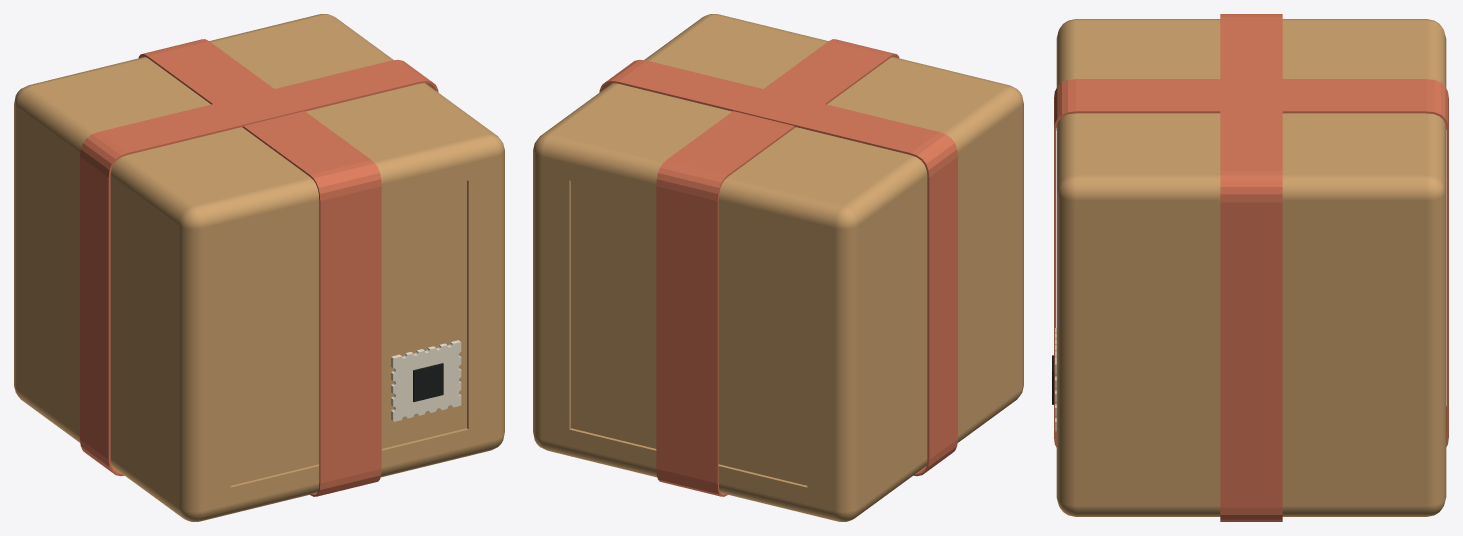
Rendered from play-parcel-small-coral.glb.
The picture shows the model from 3 angles, left to right: view 1: azimuth 30°, elevation 25°; view 2: azimuth 150°, elevation 25°; view 3: azimuth 270°, elevation 25°; orthographic projection. The views are drawn at different scales.
Parts seen in each view (by area): view 1: Parcel_Carton, Parcel_Tape_Continuous_Front_Back, Parcel_Tape_Continuous_Left_Right, Parcel_Paper_Label, Parcel_Label_Square; view 2: Parcel_Carton, Parcel_Tape_Continuous_Front_Back, Parcel_Tape_Continuous_Left_Right; view 3: Parcel_Carton, Parcel_Tape_Continuous_Left_Right, Parcel_Tape_Continuous_Front_Back.
Boxes of the visible parts, x1=… form: Parcel_Carton: x1=14, y1=14, x2=504, y2=521; Parcel_Tape_Continuous_Front_Back: x1=138, y1=39, x2=381, y2=496; Parcel_Tape_Continuous_Left_Right: x1=80, y1=59, x2=438, y2=476; Parcel_Paper_Label: x1=391, y1=340, x2=461, y2=421; Parcel_Label_Square: x1=413, y1=363, x2=443, y2=401; Parcel_Carton: x1=533, y1=14, x2=1023, y2=521; Parcel_Tape_Continuous_Front_Back: x1=656, y1=39, x2=899, y2=496; Parcel_Tape_Continuous_Left_Right: x1=599, y1=59, x2=957, y2=476; Parcel_Carton: x1=1056, y1=19, x2=1446, y2=516; Parcel_Tape_Continuous_Left_Right: x1=1220, y1=14, x2=1282, y2=521; Parcel_Tape_Continuous_Front_Back: x1=1054, y1=79, x2=1448, y2=447.
Size of the model in its own units: 0.148 by 0.138 by 0.1427.
